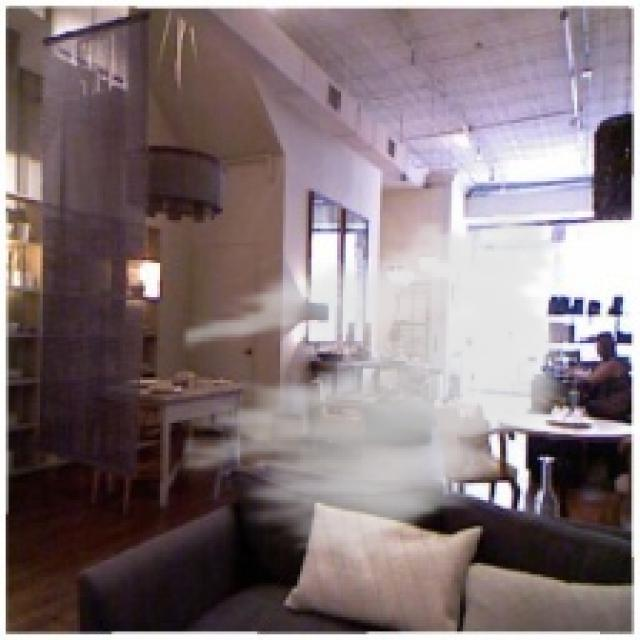smoke: (183, 194, 583, 572)
